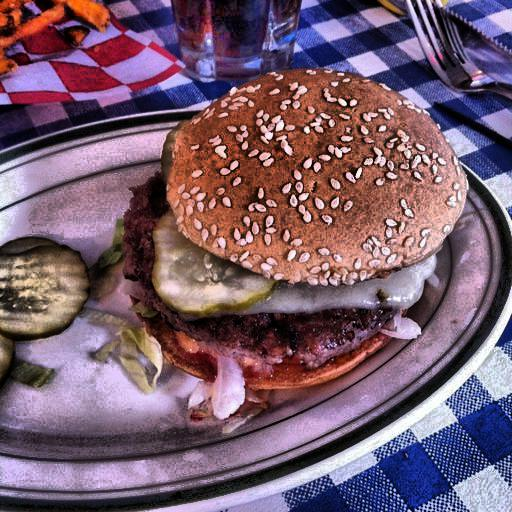burger: (96, 69, 466, 420)
